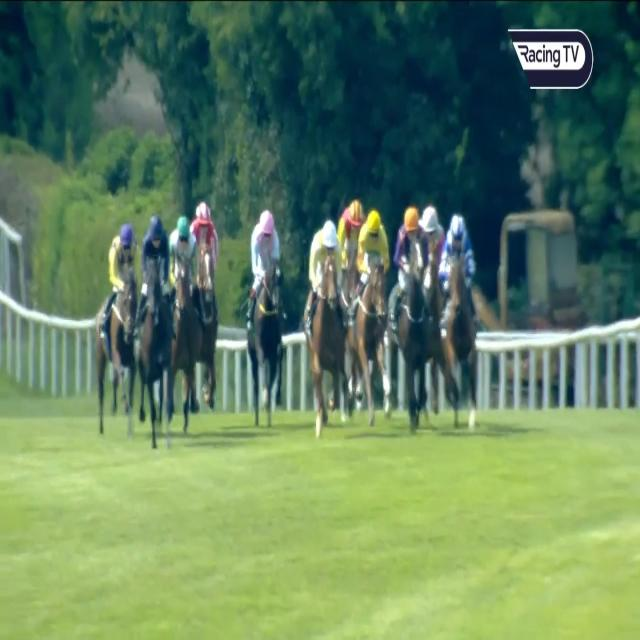horses-racing: (131, 209, 177, 438), (244, 205, 286, 435), (392, 205, 436, 420), (167, 209, 206, 427), (437, 213, 478, 419), (306, 223, 347, 427), (98, 224, 136, 422), (190, 201, 222, 419), (356, 207, 387, 426), (336, 193, 368, 301), (420, 204, 448, 274)
